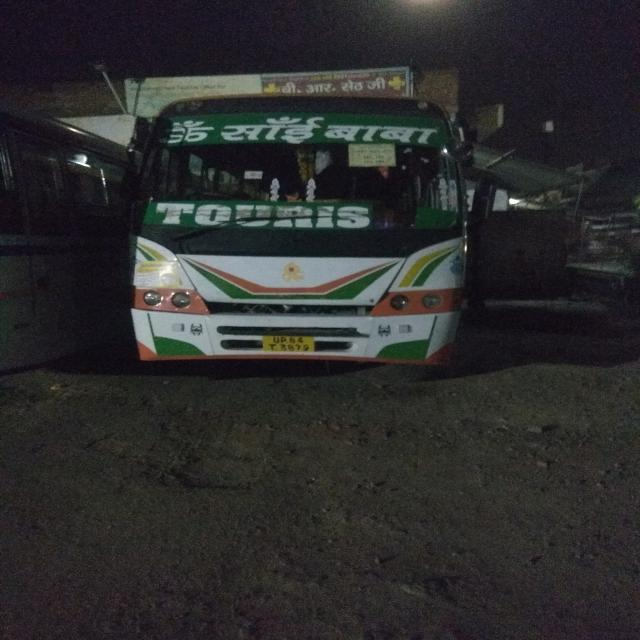Bus: (132, 96, 465, 362)
